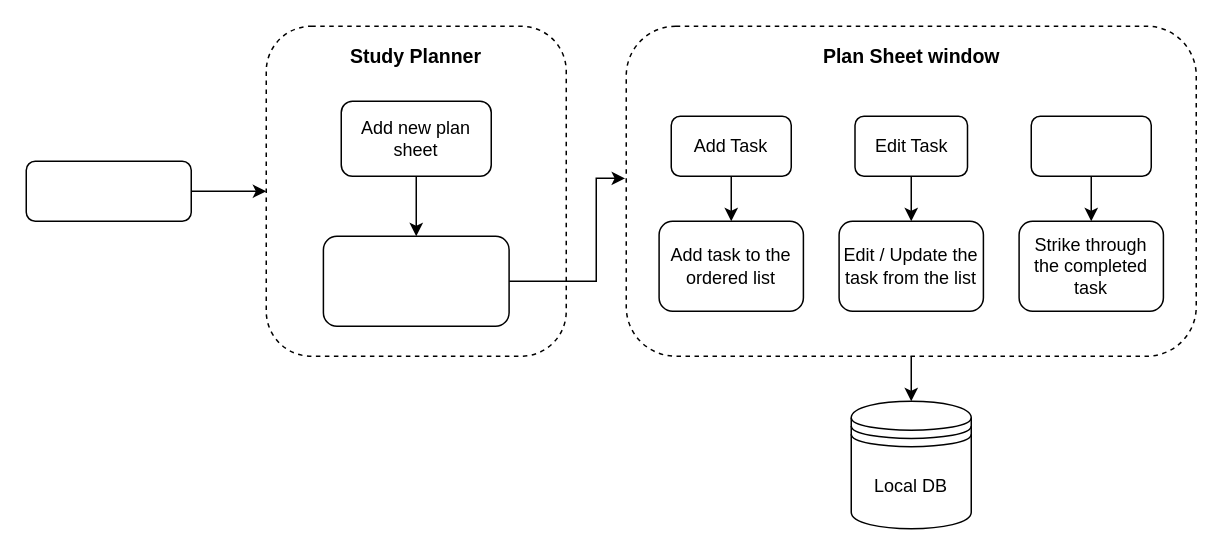
Some shapes in this 1223 by 555 pixel diagram are drawn without their labels. Here are the shapes that lost their labels. From the top down, the centre of each, then its label:
At point (1090, 145): "Complete Task".
At point (108, 190): "User Interaction".
At point (415, 280): "Plan sheet tab with relevant attributes".
